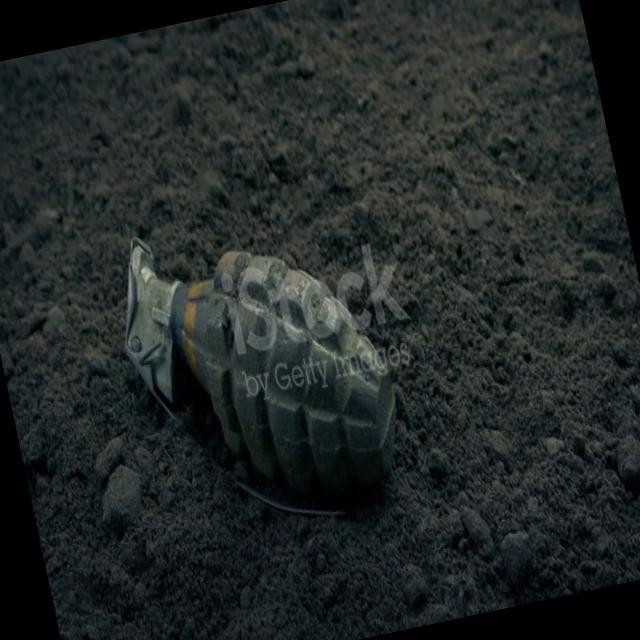grenade: (104, 183, 416, 555)
